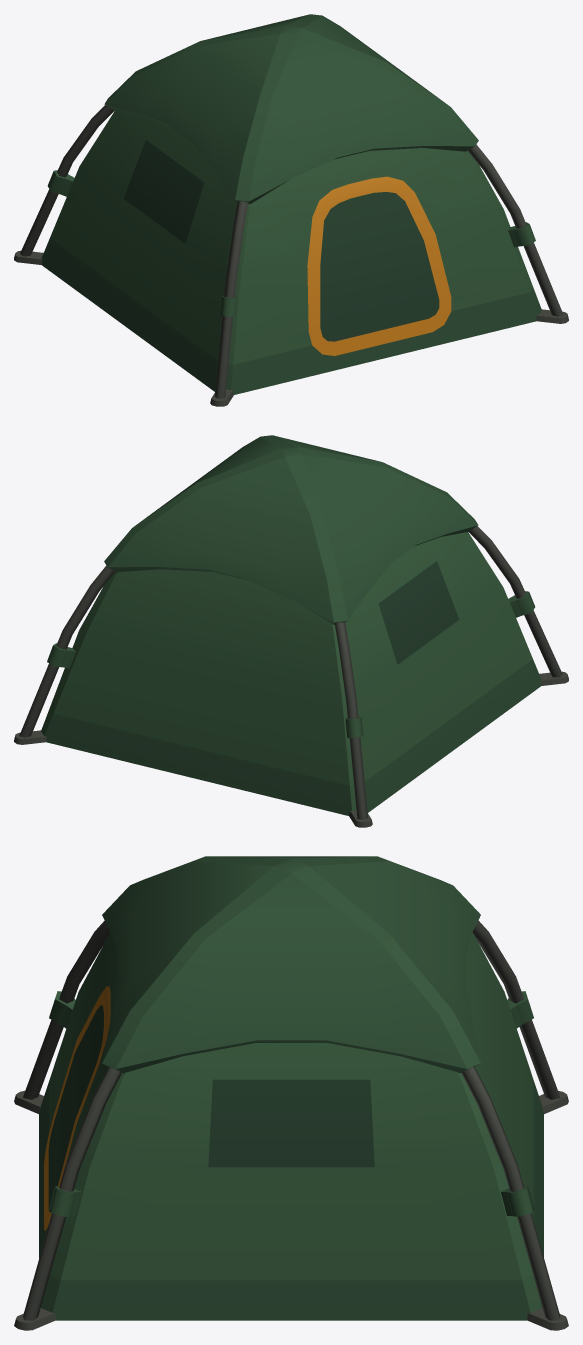
File: SM_Tent_E.fbx
3 views of the same model, one above another, from view 1: azimuth 30°, elevation 25°; view 2: azimuth 150°, elevation 25°; view 3: azimuth 270°, elevation 25° (orthographic). The views are drawn at different scales.
Visible parts, largest first — view 1: SM_Tent_E; view 2: SM_Tent_E; view 3: SM_Tent_E.
Part boxes in pixels (bbox=[...]): SM_Tent_E: bbox=[14, 14, 568, 406]; SM_Tent_E: bbox=[14, 435, 568, 827]; SM_Tent_E: bbox=[14, 856, 568, 1330].
Bounding box in the file's own units: 252 × 175 × 253.
